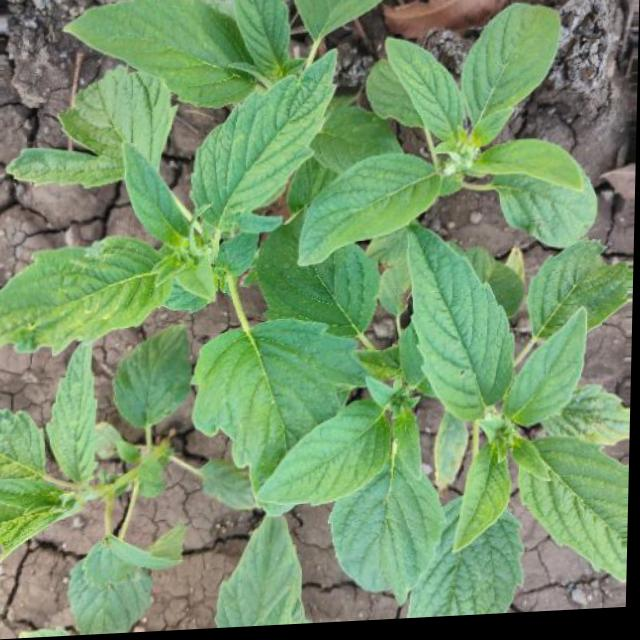crop: (9, 0, 640, 621)
